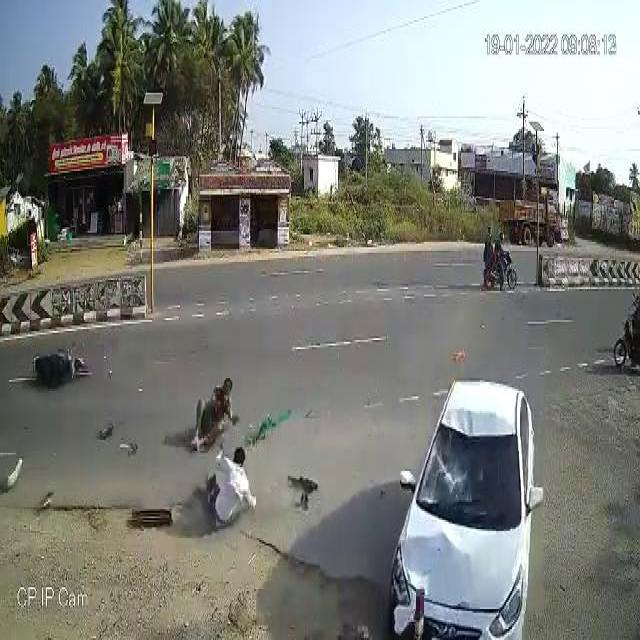accident: (382, 372, 547, 640), (21, 323, 99, 408)
